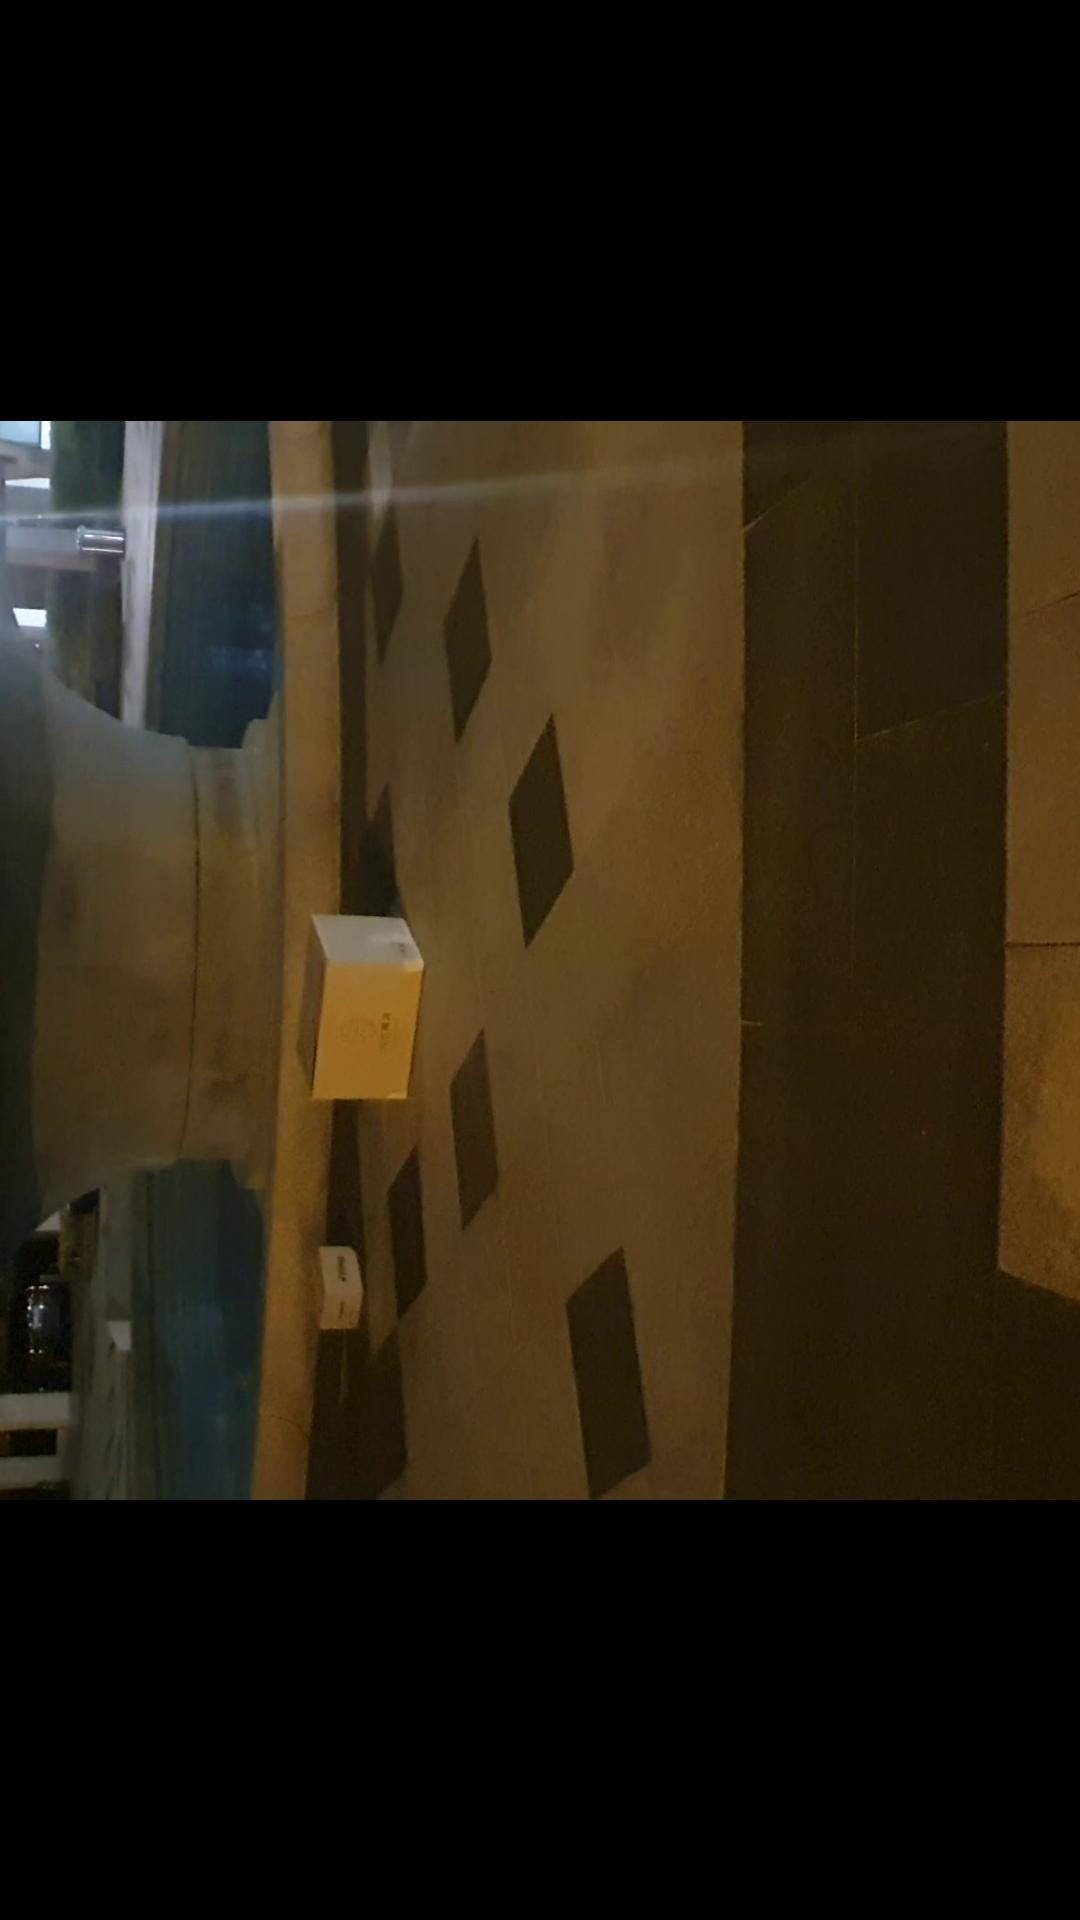Box: (284, 910, 425, 1104), (303, 1228, 373, 1342)
